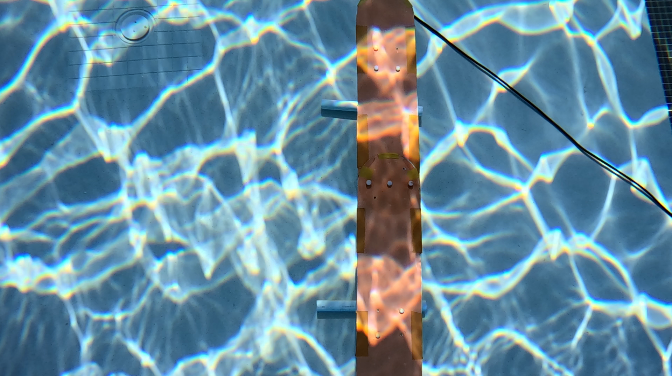pathmarker: (355, 0, 421, 375)
